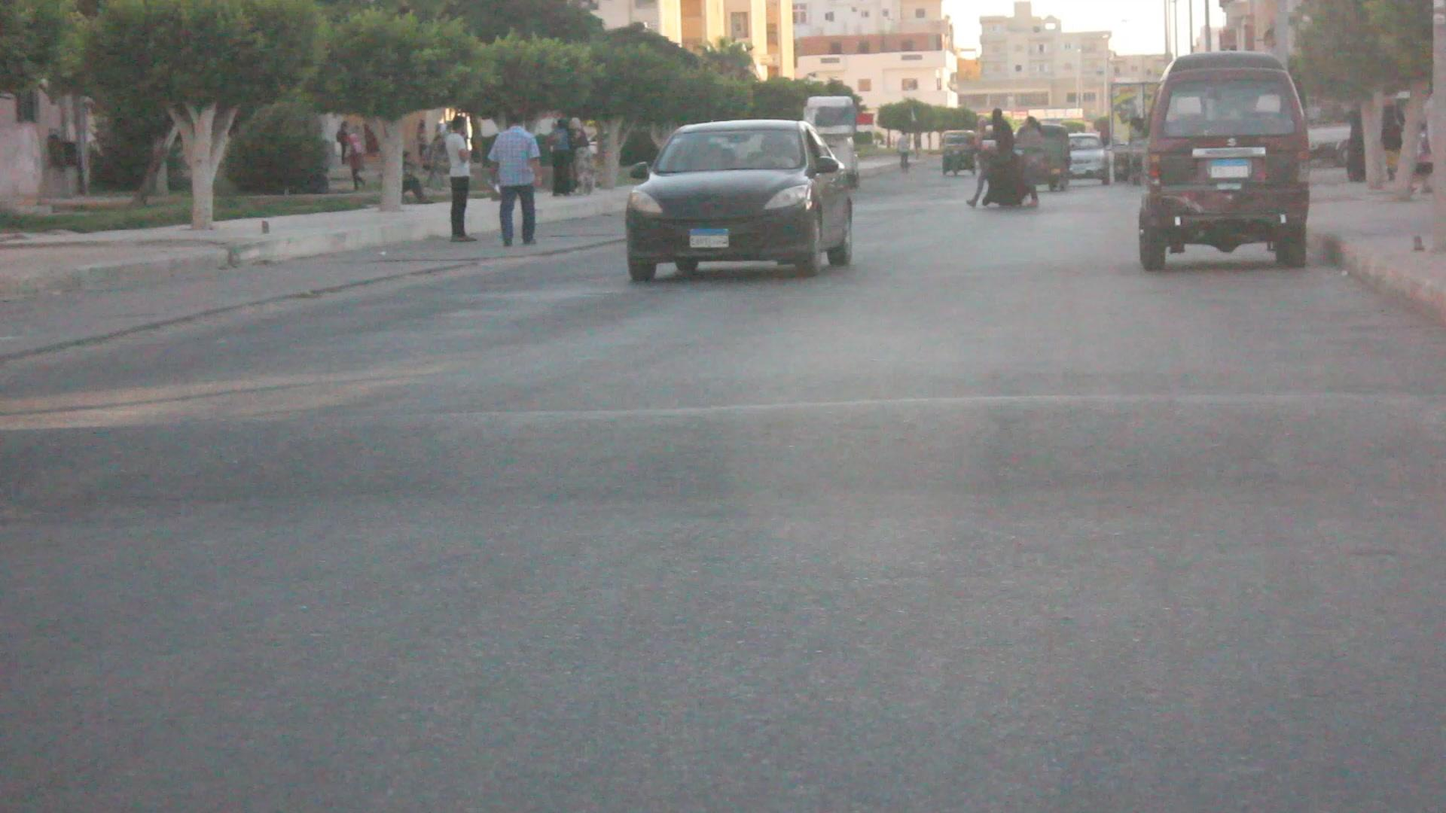Bump: (0, 380, 1446, 519)
